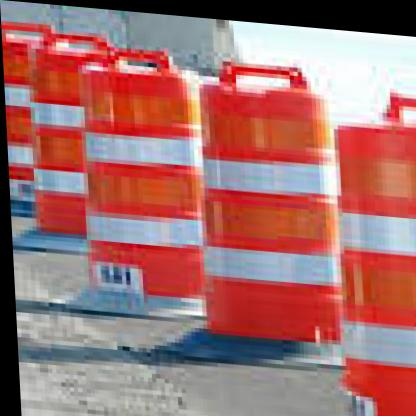obstacle: (181, 63, 346, 352), (85, 56, 212, 305)
